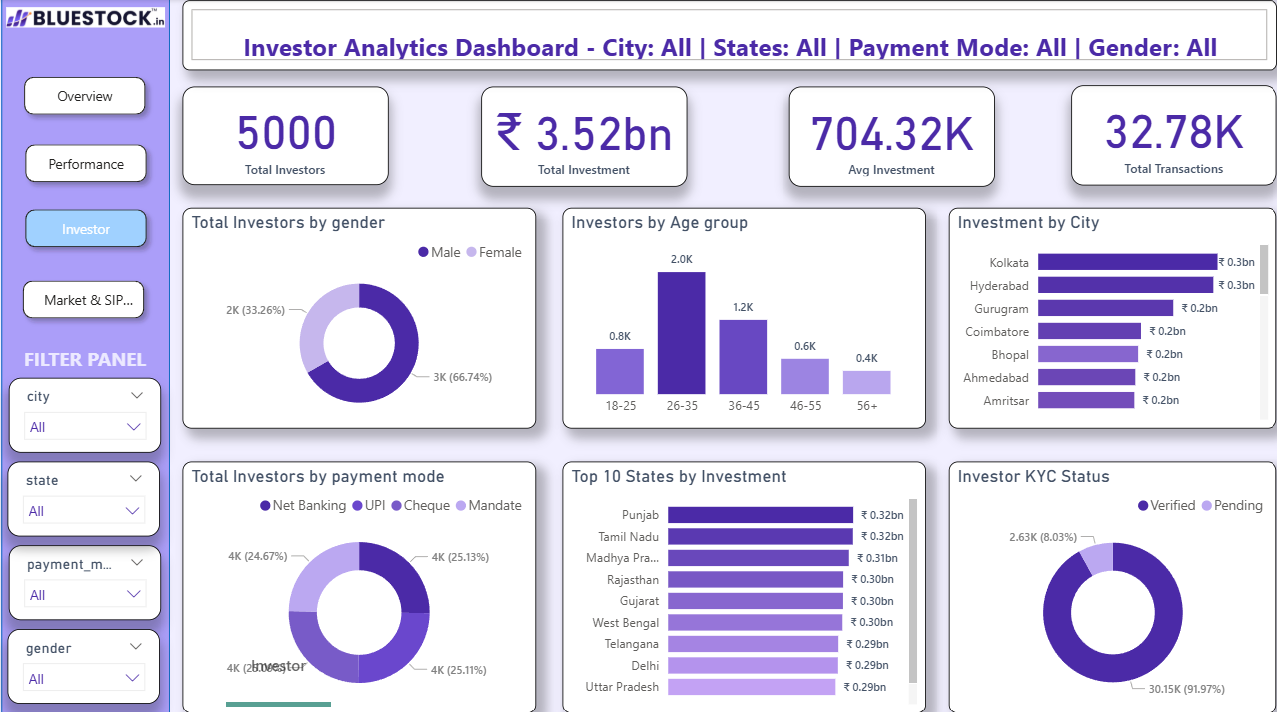

The dashboard page shown, as its layout file describes it:
{"tool":"powerbi","page":{"name":"Investor","canvas":[1280,720],"ordinal":2},"visuals":[{"type":"group","id":"g1","title":"Group 1","box":[11,0,165.6,701.8],"z":0},{"type":"shape","box":[11,0,165.6,701.8],"z":0,"group":"g1"},{"type":"image","box":[11,0,165.6,35.6],"z":1000,"group":"g1"},{"type":"card","title":"Total AUM","fields":{"Values":["Table.Total Investors"]},"box":[189,85.9,202.5,96.9],"z":1000},{"type":"card","title":"Total AUM","fields":{"Values":["Table.Total Investment"]},"box":[482.2,85.9,202.5,98.2],"z":2000},{"type":"card","title":"Total AUM","fields":{"Values":["Table.Avg Investment"]},"box":[784.1,85.9,202.5,98.2],"z":3000},{"type":"card","title":"Total AUM","fields":{"Values":["Table.Total Transactions"]},"box":[1061.4,84.7,202.5,98.2],"z":4000},{"type":"clusteredBarChart","title":"Investment by City","fields":{"Category":["public investor_transactions_features.city"],"Y":["Table.Total Investment"]},"box":[941.1,204.9,322.7,217.2],"z":5000},{"type":"donutChart","fields":{"Category":["public investor_transactions_features.gender"],"Y":["Table.Total Investors"]},"box":[189,204.9,347.2,217.2],"z":6000},{"type":"clusteredColumnChart","title":"Investors by Age group","fields":{"Y":["Table.Total Investors"],"Category":["DimAgeGroup.Age Group"]},"box":[562,204.9,357.1,217.2],"z":7000},{"type":"donutChart","title":"Total Investors by payment mode","fields":{"Category":["public investor_transactions_features.payment_mode"],"Y":["Table.Total Investors"]},"box":[189,454,347.2,247.9],"z":8000},{"type":"barChart","title":"Top 10 States by Investment","fields":{"Category":["public investor_transactions_features.state"],"Y":["Table.Total Investment"]},"box":[562,454,357.1,247.9],"z":9000},{"type":"donutChart","title":"Investor KYC Status","fields":{"Y":["CountNonNull(public investor_transactions_features.investor_id)"],"Category":["public investor_transactions_features.kyc_status"]},"box":[941.1,454,322.7,247.9],"z":10000},{"type":"slicer","fields":{"Values":["public investor_transactions_features.city"]},"box":[18.4,371.8,149.7,73.6],"z":11000},{"type":"slicer","fields":{"Values":["public investor_transactions_features.payment_mode"]},"box":[18.4,536.2,149.7,73.6],"z":12000},{"type":"slicer","fields":{"Values":["public investor_transactions_features.gender"]},"box":[17.2,618.4,149.7,73.6],"z":13000},{"type":"slicer","fields":{"Values":["public investor_transactions_features.state"]},"box":[17.2,454,149.7,73.6],"z":14000},{"type":"cardVisual","fields":{"Data":["Table.Dashboard Title2"]},"box":[189,1.2,1074.9,68.7],"z":15000},{"type":"textbox","box":[18.4,335,149.7,36.8],"z":16000},{"type":"pageNavigator","box":[24.5,67.5,137.4,55.2],"z":17000},{"type":"pageNavigator","box":[25.8,133.7,137.4,55.2],"z":18000},{"type":"pageNavigator","box":[25.8,197.5,137.4,55.2],"z":19000},{"type":"pageNavigator","box":[23.3,267.5,137.4,55.2],"z":20000}]}

Visuals, with their boxes in screenshot pixels (x1, y1, x2, y2):
"Group 1" group: Rect(4, 0, 172, 709)
shape: Rect(4, 0, 172, 709)
image: Rect(4, 0, 172, 36)
"Total AUM" card: Rect(184, 87, 389, 185)
"Total AUM" card: Rect(481, 87, 685, 186)
"Total AUM" card: Rect(786, 87, 990, 186)
"Total AUM" card: Rect(1066, 86, 1271, 185)
"Investment by City" clusteredBarChart: Rect(944, 207, 1271, 427)
donutChart - public investor_transactions_features.gender x Table.Total Investors: Rect(184, 207, 535, 427)
"Investors by Age group" clusteredColumnChart: Rect(561, 207, 922, 427)
"Total Investors by payment mode" donutChart: Rect(184, 459, 535, 709)
"Top 10 States by Investment" barChart: Rect(561, 459, 922, 709)
"Investor KYC Status" donutChart: Rect(944, 459, 1271, 709)
slicer - public investor_transactions_features.city: Rect(12, 376, 163, 450)
slicer - public investor_transactions_features.payment_mode: Rect(12, 542, 163, 616)
slicer - public investor_transactions_features.gender: Rect(11, 625, 162, 699)
slicer - public investor_transactions_features.state: Rect(11, 459, 162, 533)
cardVisual - Table.Dashboard Title2: Rect(184, 1, 1271, 71)
textbox: Rect(12, 339, 163, 376)
pageNavigator: Rect(18, 68, 157, 124)
pageNavigator: Rect(19, 135, 158, 191)
pageNavigator: Rect(19, 200, 158, 255)
pageNavigator: Rect(17, 270, 156, 326)
